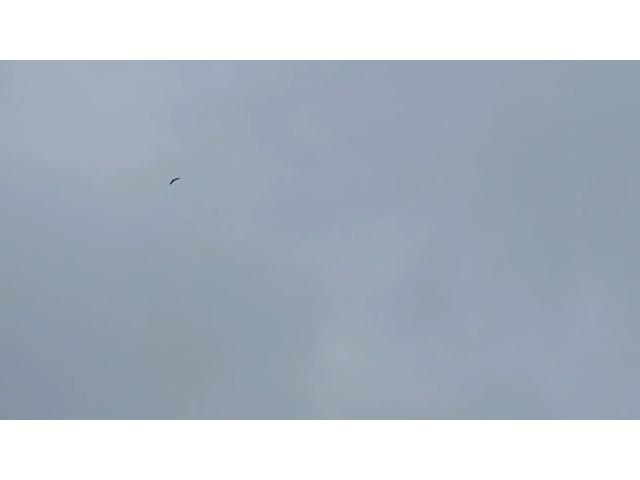Anti-Drone: (169, 176, 181, 185)
